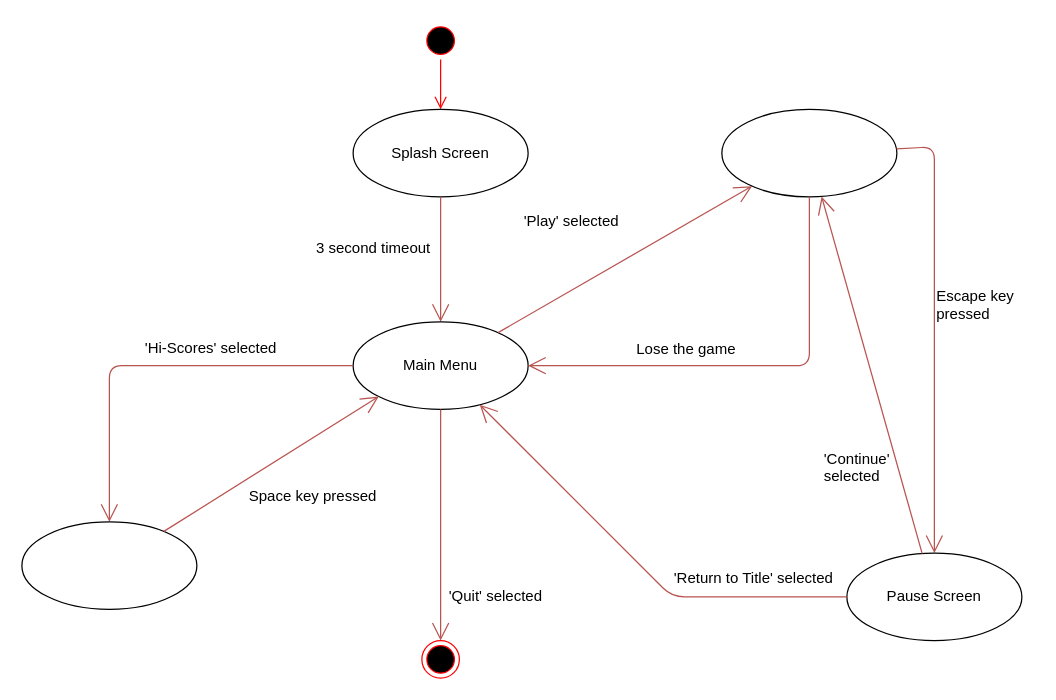
Some shapes in this 1056 by 700 pixel diagram are drawn without their labels. Here are the shapes that lost their labels. From the top down, the centre of each, then its label:
pixel 809 152: Game Play
pixel 109 565: Score Board
